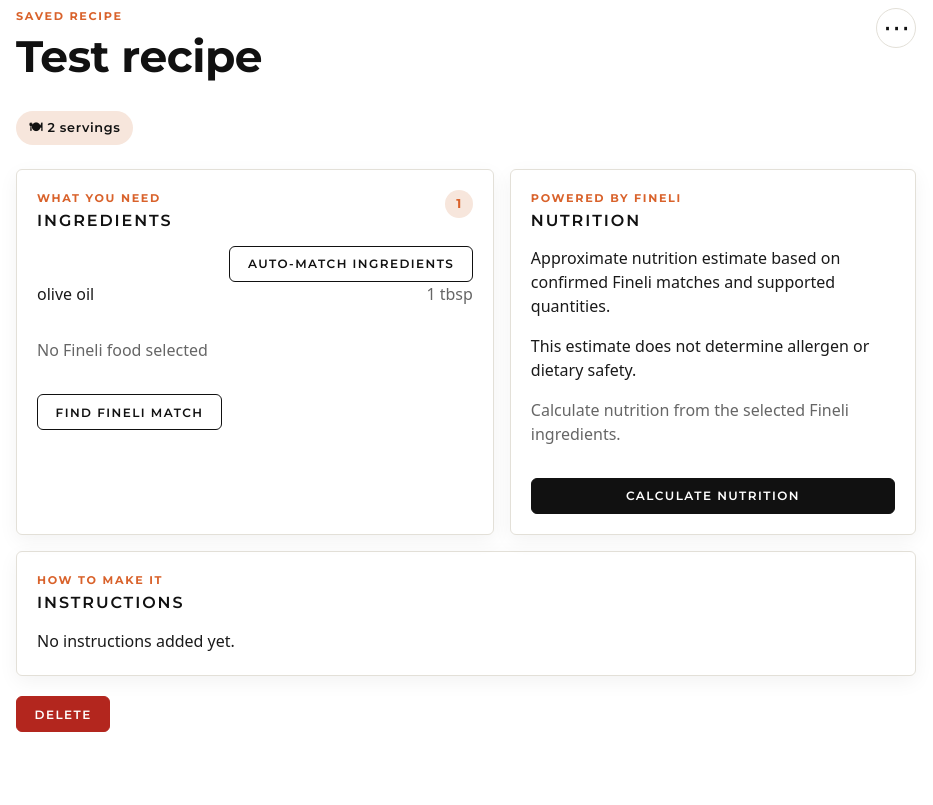
Test: RecipeDetailPage ingredient matching › shows an error alert when deleting a recipe fails
Click the button "Delete" at (63,714), box [16, 696, 110, 732]
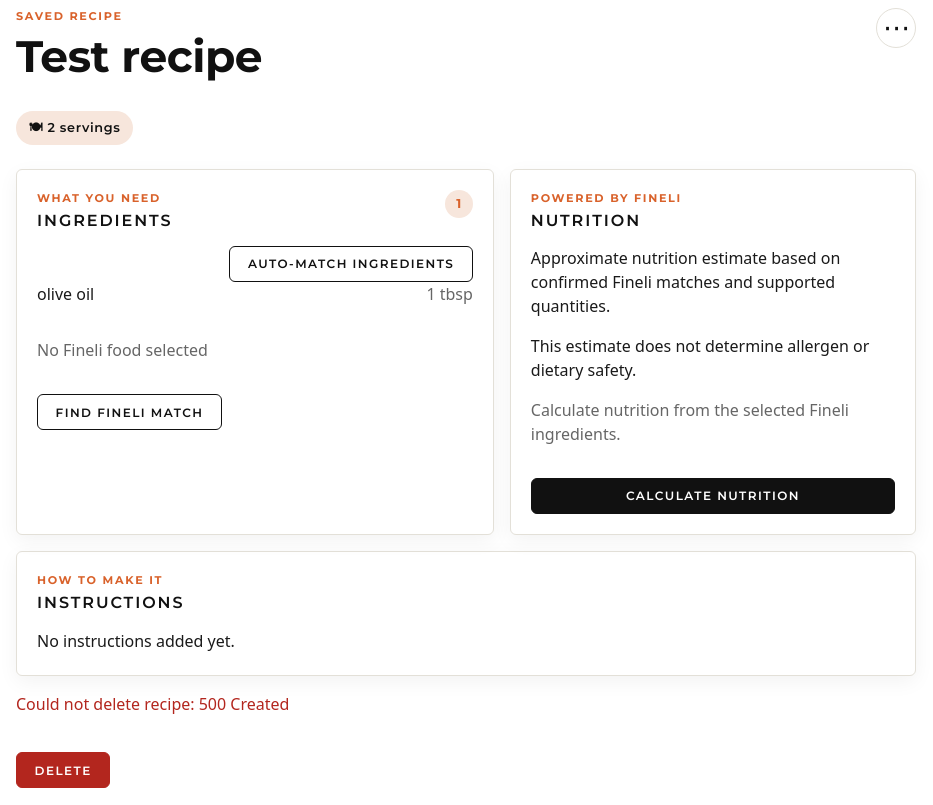
Expected: the message shows "Could not delete recipe", [16, 693, 289, 715]
